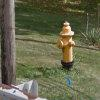Hydrant: (54, 13, 78, 74)
